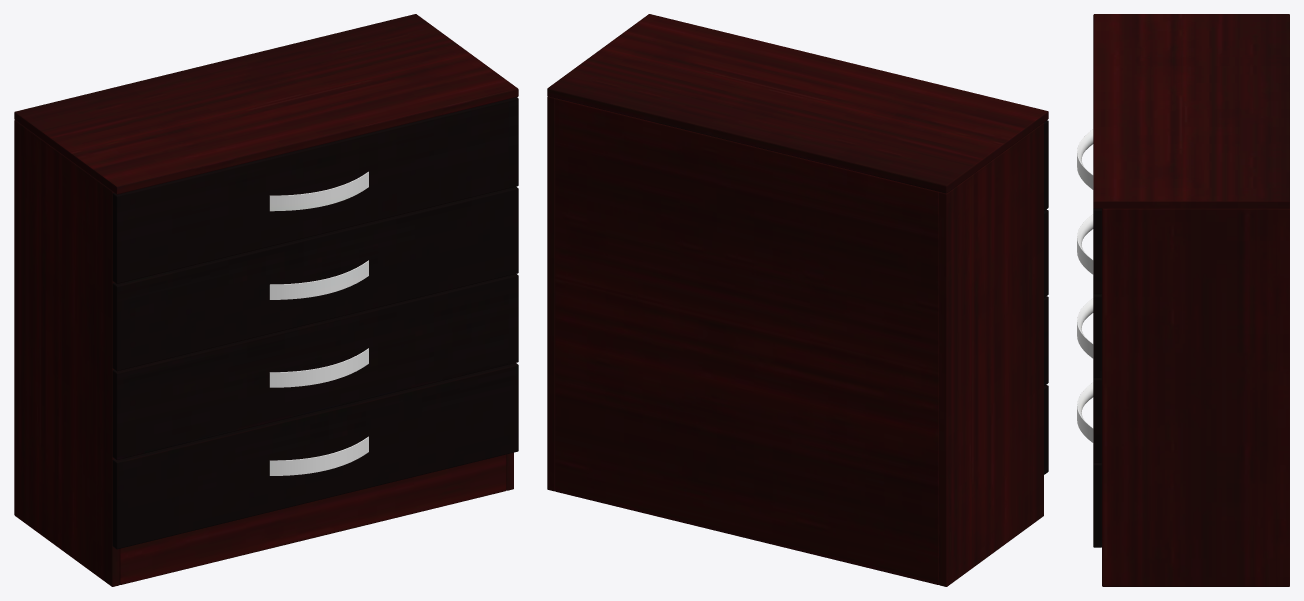
3 renders of one model, left to right at view 1: azimuth 30°, elevation 25°; view 2: azimuth 150°, elevation 25°; view 3: azimuth 270°, elevation 25°, orthographic. The views are drawn at different scales.
Parts seen in each view (by area): view 1: B079X4CP3F; view 2: B079X4CP3F; view 3: B079X4CP3F.
Boxes of the visible parts, bbox=[...] form: B079X4CP3F: bbox=[14, 14, 518, 586]; B079X4CP3F: bbox=[547, 14, 1048, 586]; B079X4CP3F: bbox=[1077, 14, 1289, 586].
Size of the model in its own units: 0.7501 by 0.7201 by 0.3599.
Materials: 1 (1 with a texture image).
